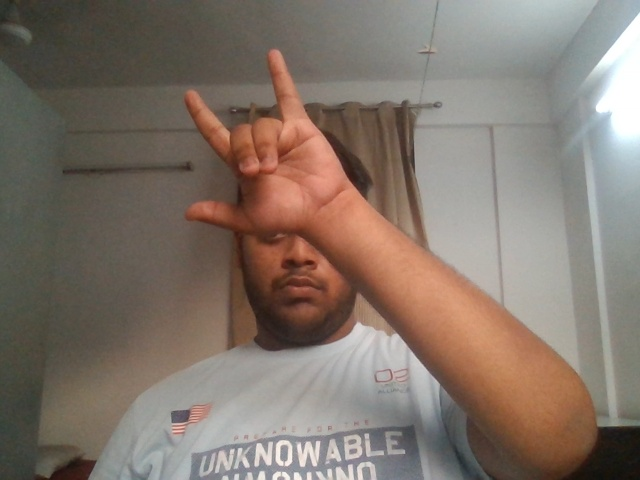I Love You: (151, 31, 404, 258)
